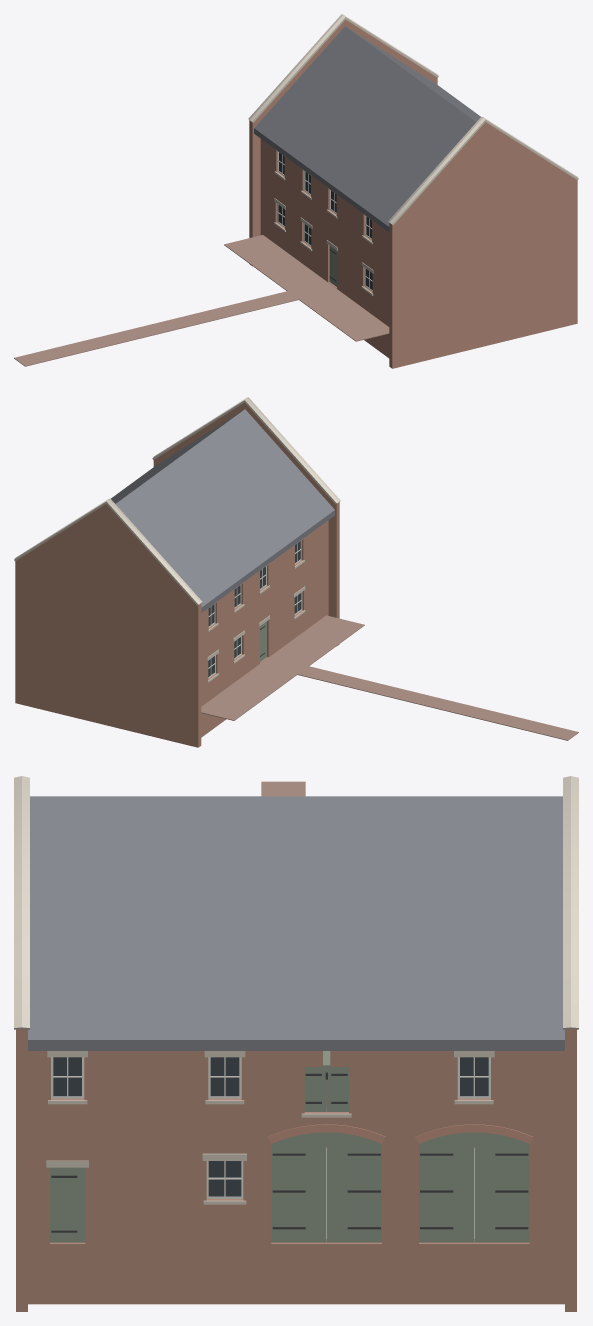
The model's file is roloson_house_2109_prairie_coach_house__as_standing_1904.glb.
3 renders of one model, top to bottom at view 1: azimuth 30°, elevation 25°; view 2: azimuth 150°, elevation 25°; view 3: azimuth 270°, elevation 25°, orthographic. The views are drawn at different scales.
Parts seen in each view (by area): view 1: roloson_house_2109_prairie_coach_house__as_standing_1904; view 2: roloson_house_2109_prairie_coach_house__as_standing_1904; view 3: roloson_house_2109_prairie_coach_house__as_standing_1904.
Part boxes in pixels (x1=…): roloson_house_2109_prairie_coach_house__as_standing_1904: x1=14, y1=14, x2=578, y2=368; roloson_house_2109_prairie_coach_house__as_standing_1904: x1=14, y1=397, x2=578, y2=747; roloson_house_2109_prairie_coach_house__as_standing_1904: x1=14, y1=776, x2=578, y2=1311.
Size of the model in its own units: 30.48 by 13.38 by 15.32.
